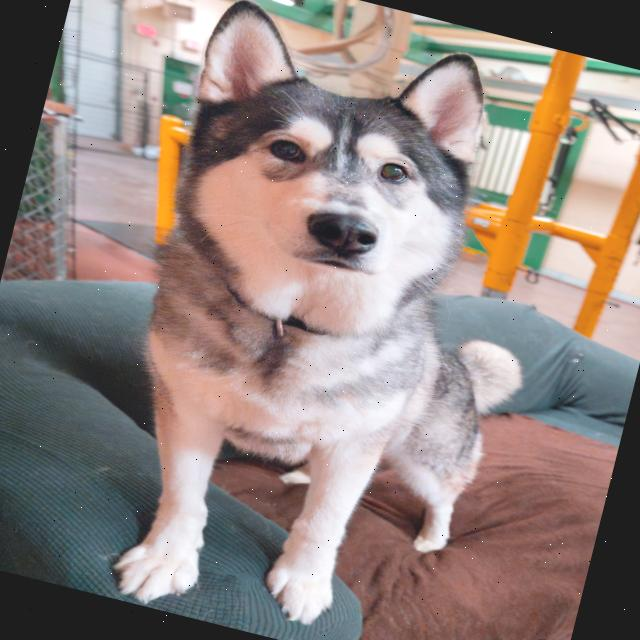siberian_husky_dog: (139, 0, 523, 351)
